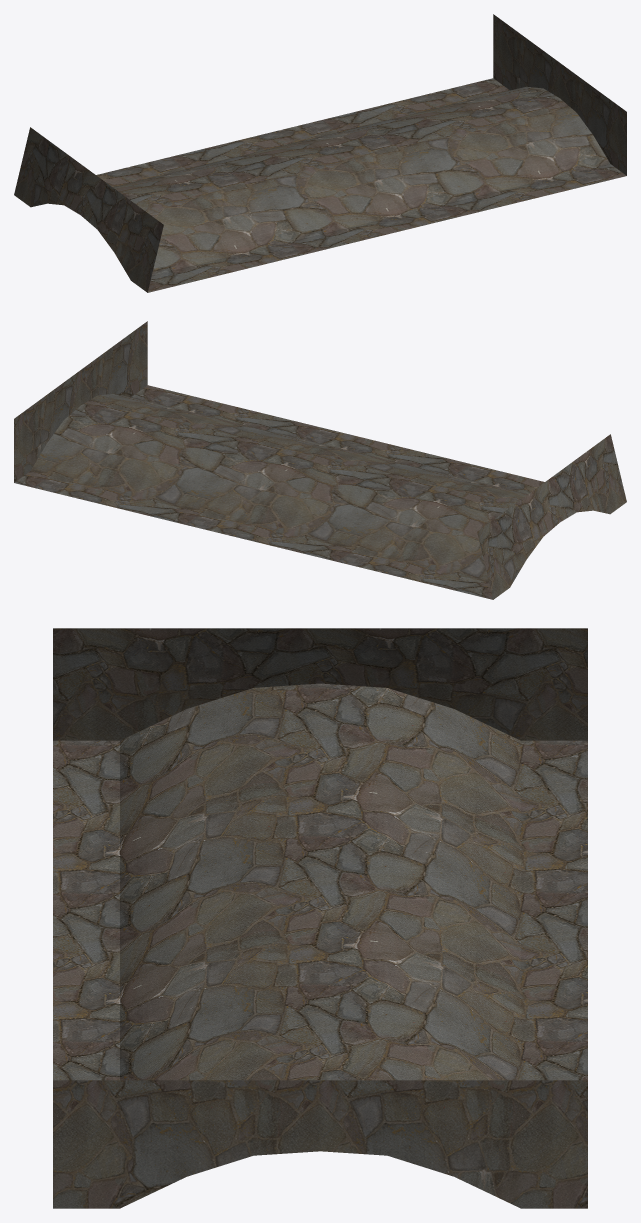
The model's file is arch02.fbx.
The picture shows the model from 3 angles, top to bottom: view 1: azimuth 30°, elevation 25°; view 2: azimuth 150°, elevation 25°; view 3: azimuth 270°, elevation 25°; orthographic projection. The views are drawn at different scales.
Visible parts, largest first — view 1: canal_street_arch01; view 2: canal_street_arch01; view 3: canal_street_arch01.
Part boxes in pixels (x1,y1,x2,y2): canal_street_arch01: [14, 14, 626, 292]; canal_street_arch01: [14, 321, 626, 599]; canal_street_arch01: [53, 628, 587, 1208].
Size of the model in its own units: 414 by 52.94 by 200.
